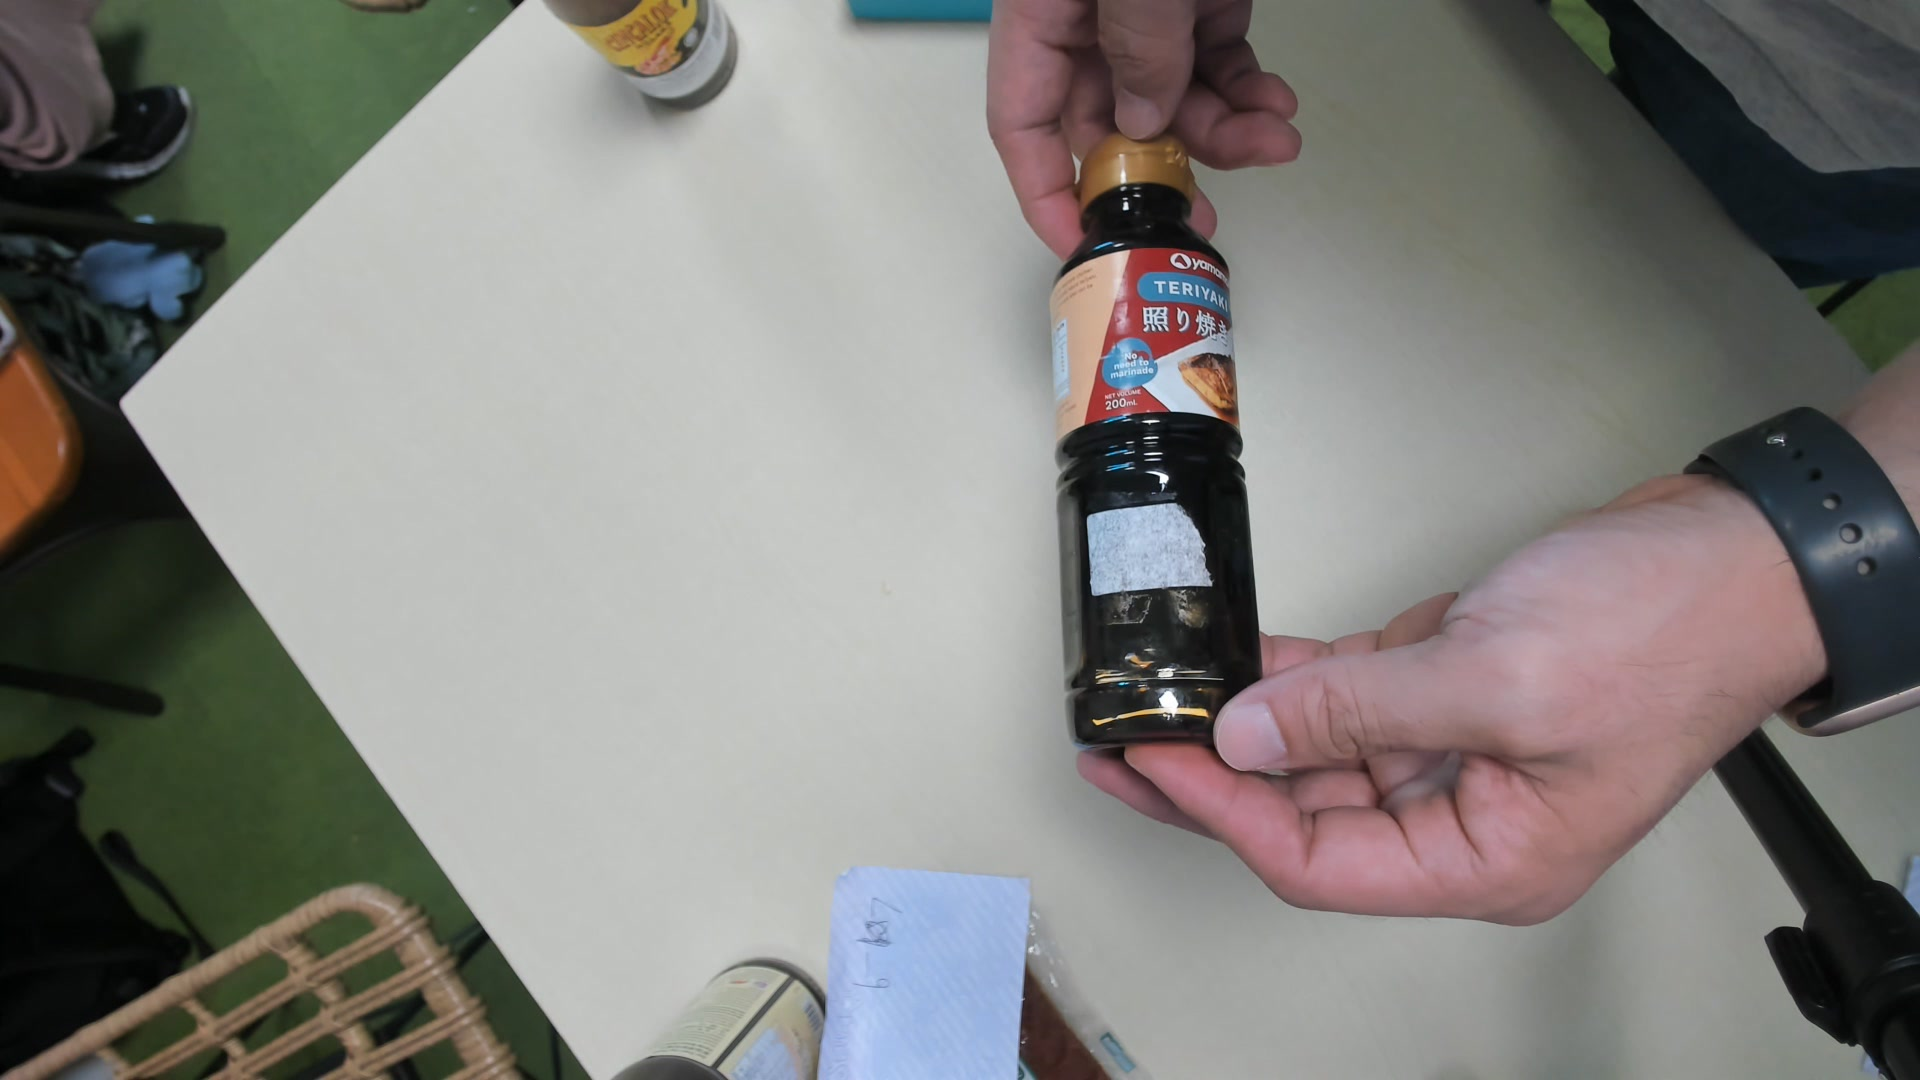OtherSauceDressingSoupbasePaste_200-299g_Halal_NonHealthy: (1044, 127, 1261, 740)
